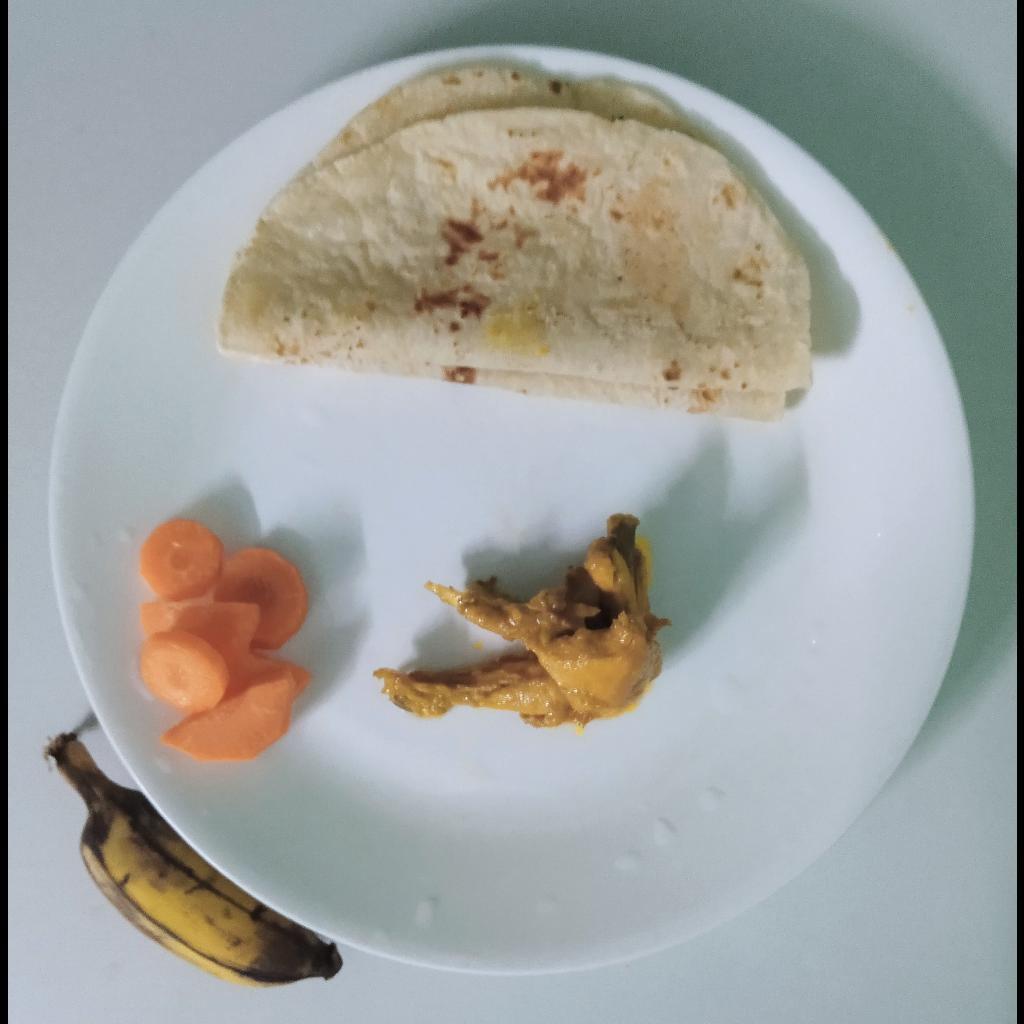banana: (39, 734, 342, 992)
carrot: (139, 520, 313, 762)
chicken: (371, 513, 676, 736)
ruti: (217, 68, 812, 426)
